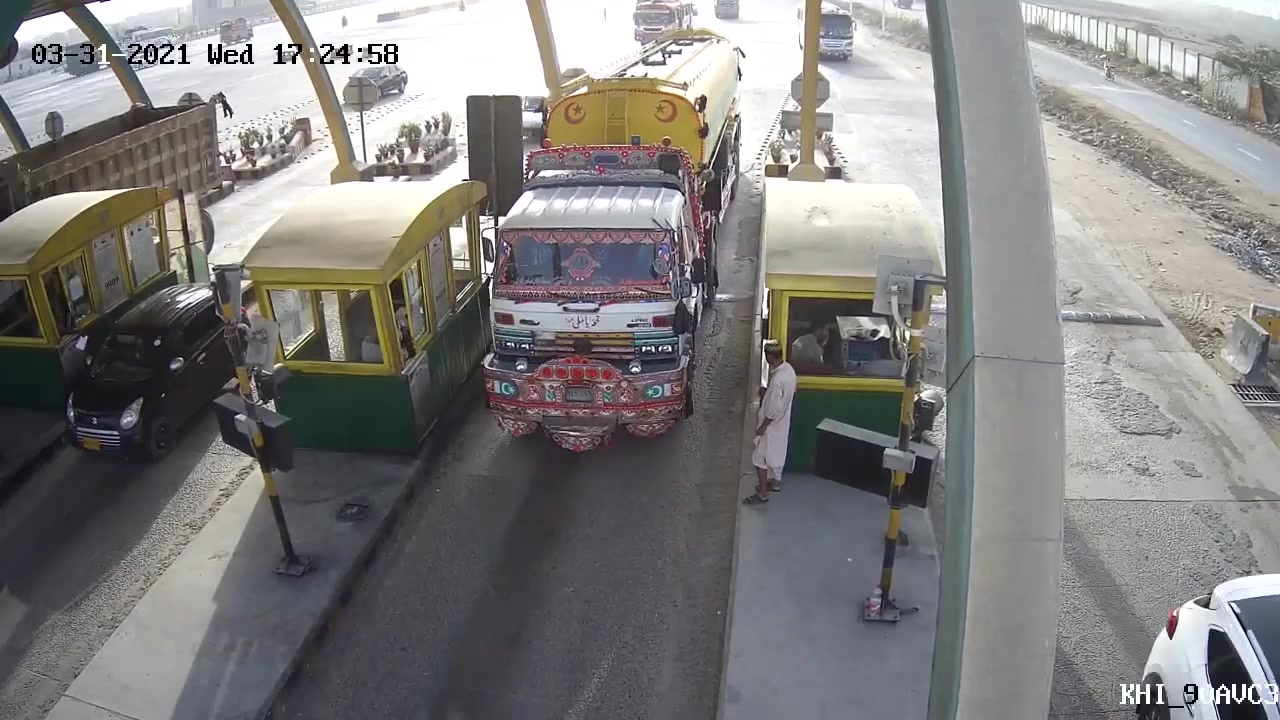F6: (483, 28, 748, 446)
